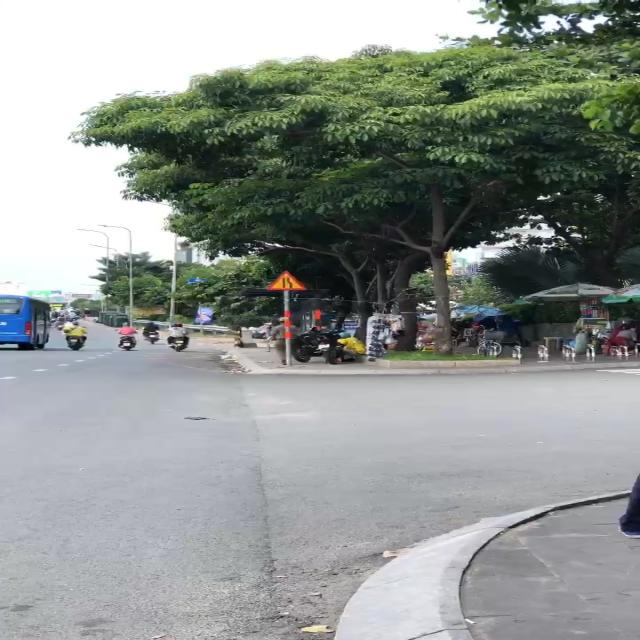Bien bao duong bi thu hep: (261, 266, 311, 292)
